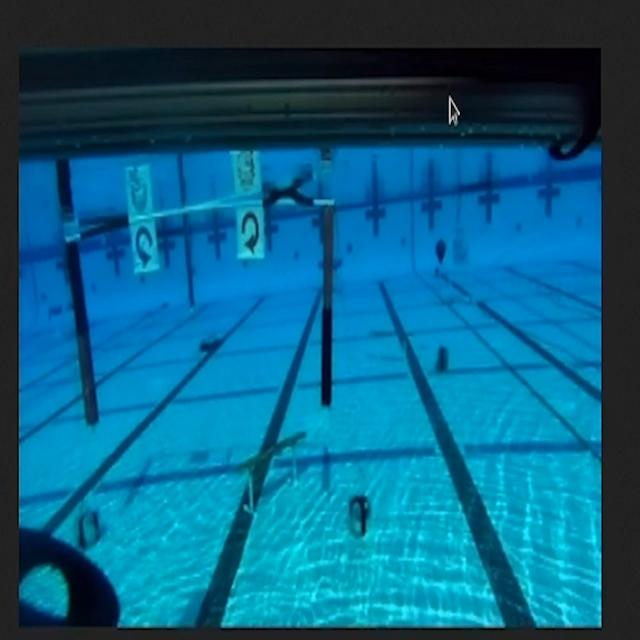Gate: (50, 186, 343, 434)
Path: (225, 425, 325, 523)
